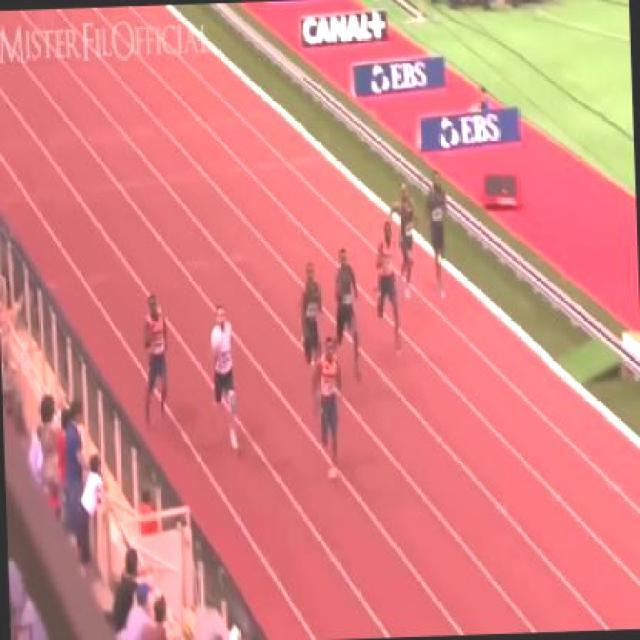non-fight: (308, 332, 348, 486), (204, 298, 241, 457), (138, 284, 174, 430), (369, 216, 403, 362), (416, 162, 449, 310), (328, 244, 362, 384), (387, 178, 418, 298), (295, 258, 323, 372)
